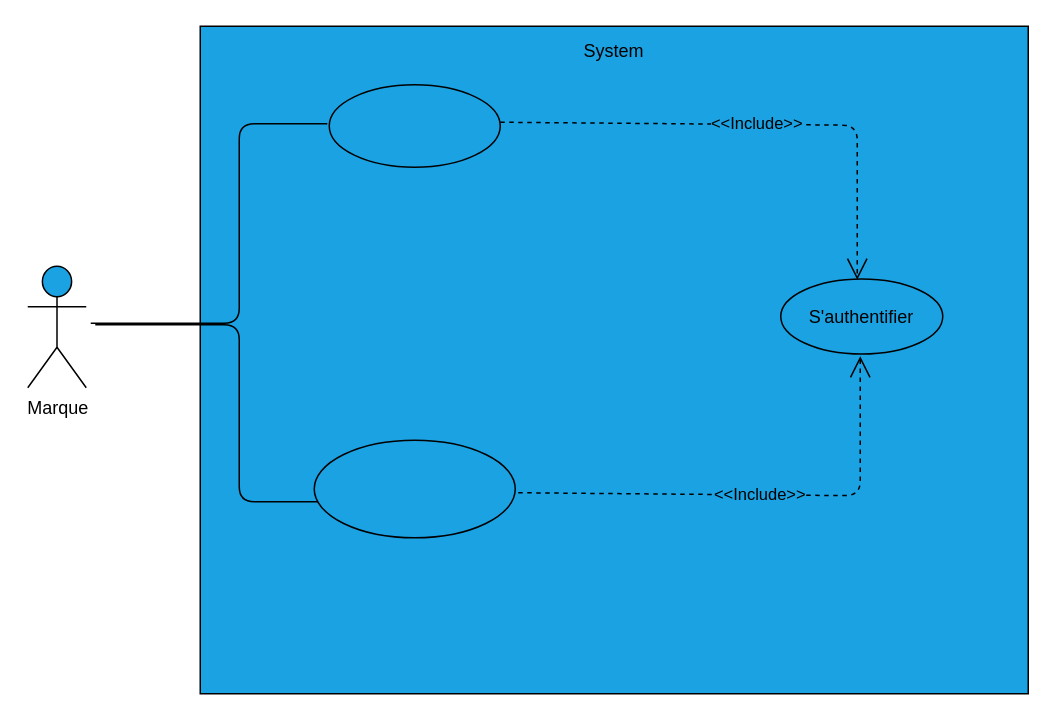
Some shapes in this 1055 by 720 pixel diagram are drawn without their labels. Each missing label, with the centre of its shape:
"Consulter la liste de influenceurs" goes at (x=414, y=488).
"Publier une campagne" goes at (x=414, y=125).
